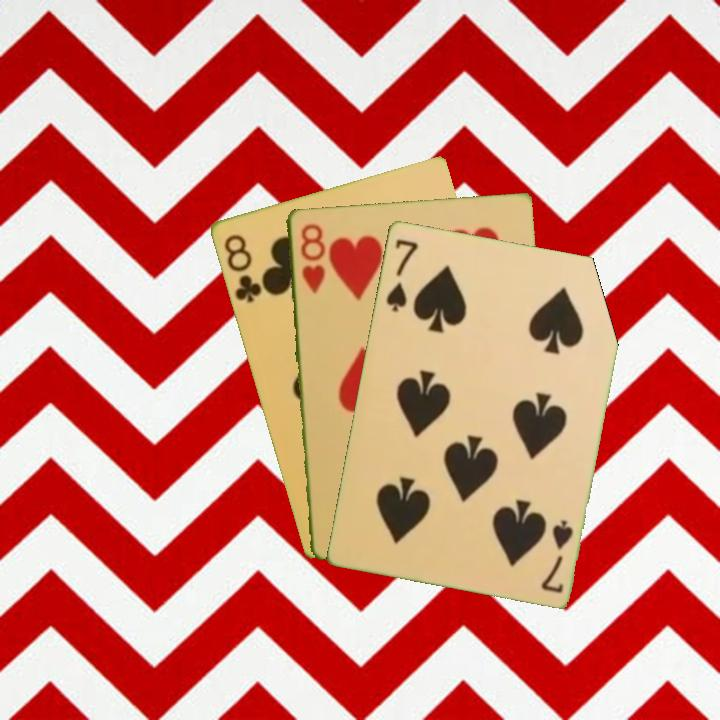7s: (537, 515, 576, 596), (382, 235, 421, 314)
8c: (219, 230, 264, 305)
8h: (297, 219, 327, 296)
